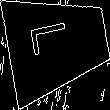L_E: (33, 24, 82, 64)
